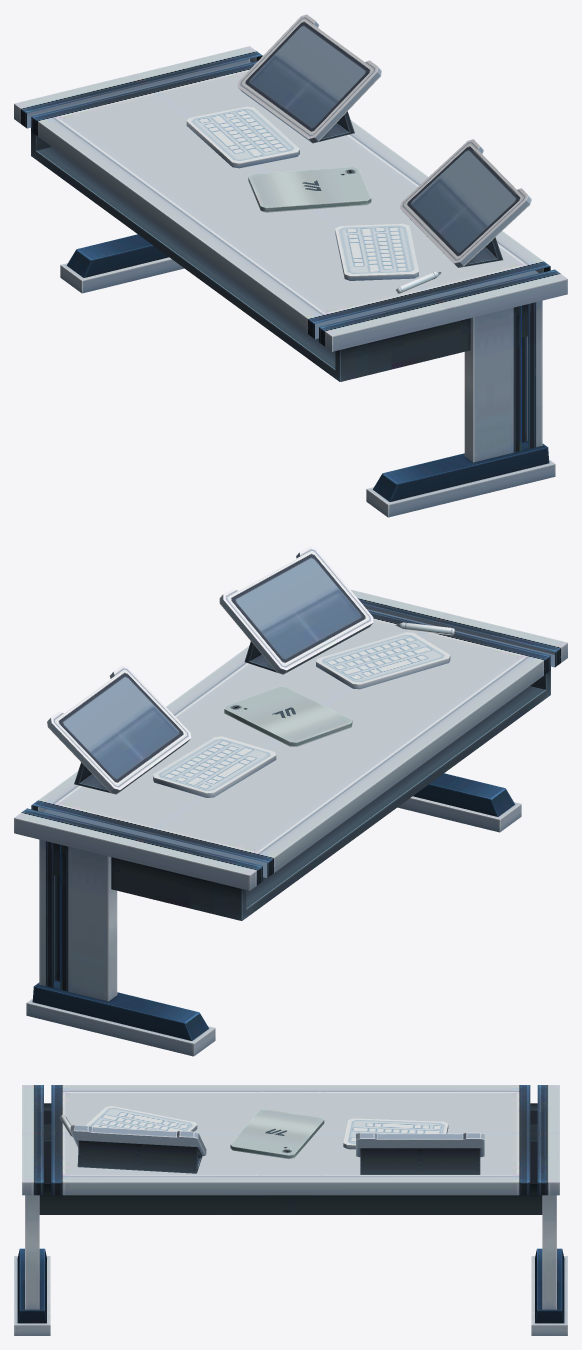
Rendered from my_millenniumlounge_01_desk_01.glb.
The picture shows the model from 3 angles, top to bottom: view 1: azimuth 30°, elevation 25°; view 2: azimuth 150°, elevation 25°; view 3: azimuth 270°, elevation 25°; orthographic projection. The views are drawn at different scales.
Visible parts, largest first — view 1: my_millenniumlounge_01_desk_01; view 2: my_millenniumlounge_01_desk_01; view 3: my_millenniumlounge_01_desk_01.
Part boxes in pixels (bbox=[...]): my_millenniumlounge_01_desk_01: bbox=[14, 14, 567, 517]; my_millenniumlounge_01_desk_01: bbox=[14, 546, 567, 1056]; my_millenniumlounge_01_desk_01: bbox=[14, 1085, 567, 1335].
Size of the model in its own units: 0.00515 by 0.005 by 0.0117.
2 materials, 2 textured.
